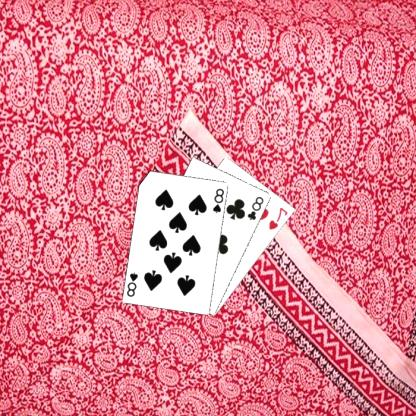7H: (268, 205, 291, 231)
8C: (246, 194, 266, 222)
8S: (212, 185, 227, 214), (126, 269, 141, 298)
